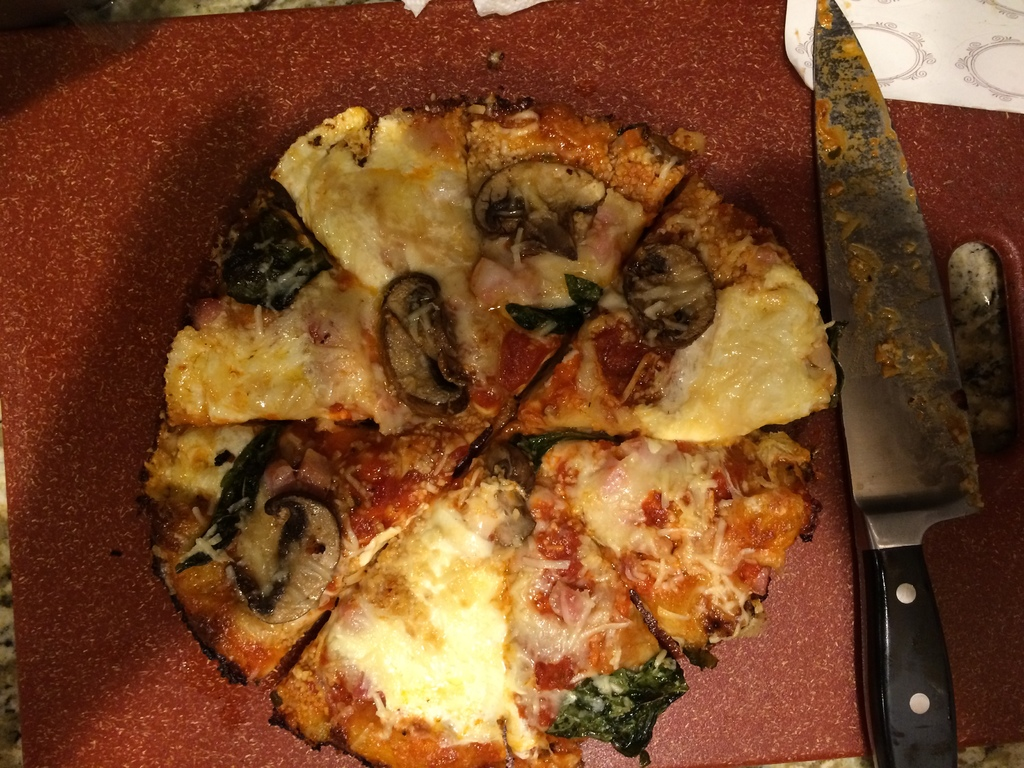Pizza: (135, 36, 867, 743)
